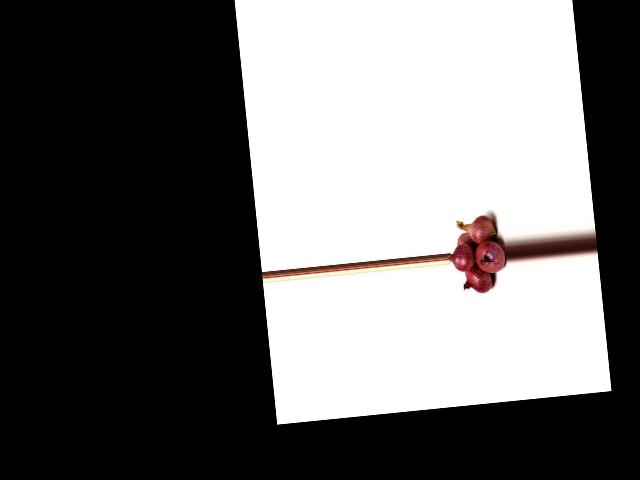onion: (472, 232, 507, 275)
